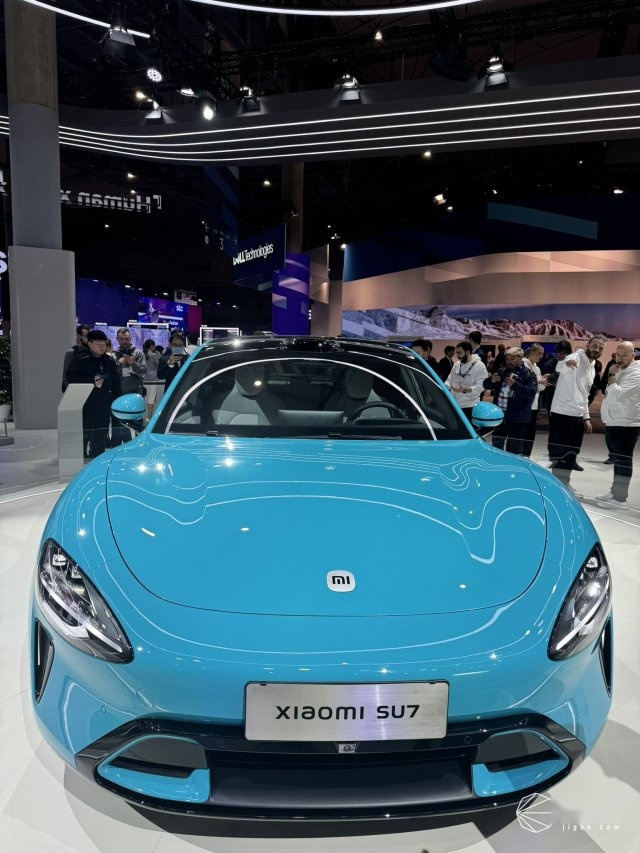su7: (42, 333, 613, 824)
